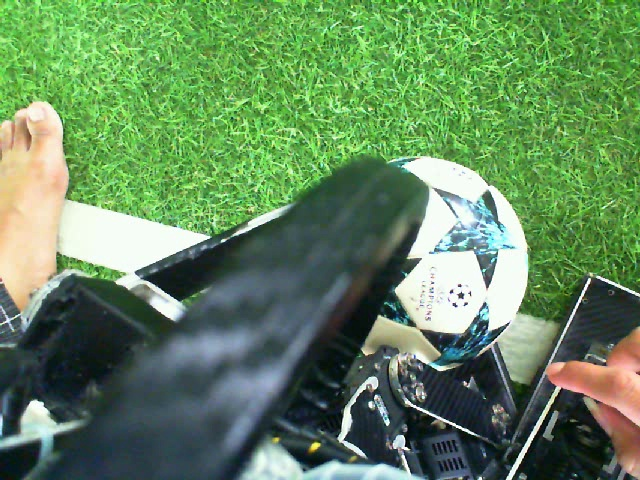ball: (350, 153, 531, 374)
